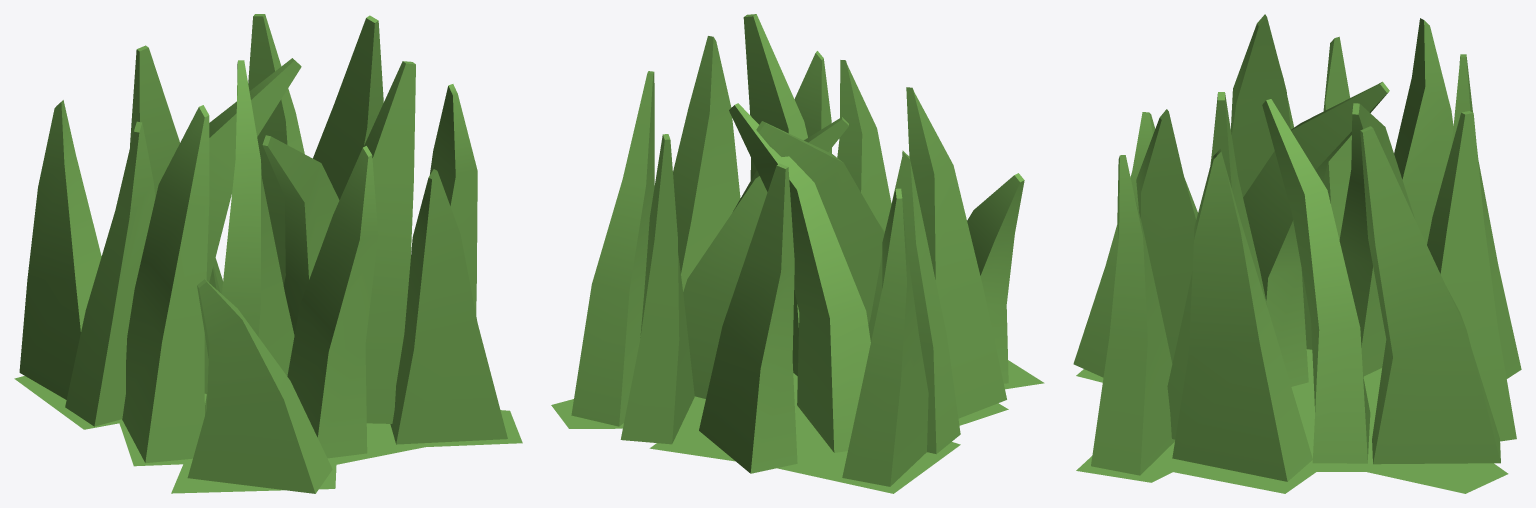
The model's file is Grass.fbx.
3 views of the same model, side by side, from view 1: azimuth 30°, elevation 25°; view 2: azimuth 150°, elevation 25°; view 3: azimuth 270°, elevation 25° (orthographic). The views are drawn at different scales.
Visible parts, largest first — view 1: group10_pCube40; view 2: group10_pCube40; view 3: group10_pCube40.
Part boxes in pixels (x1,y1,x2,y2): group10_pCube40: (14,14,522,493); group10_pCube40: (551,14,1044,493); group10_pCube40: (1073,14,1521,493).
Bounding box in the file's own units: 0.9793 × 0.8936 × 1.01.
